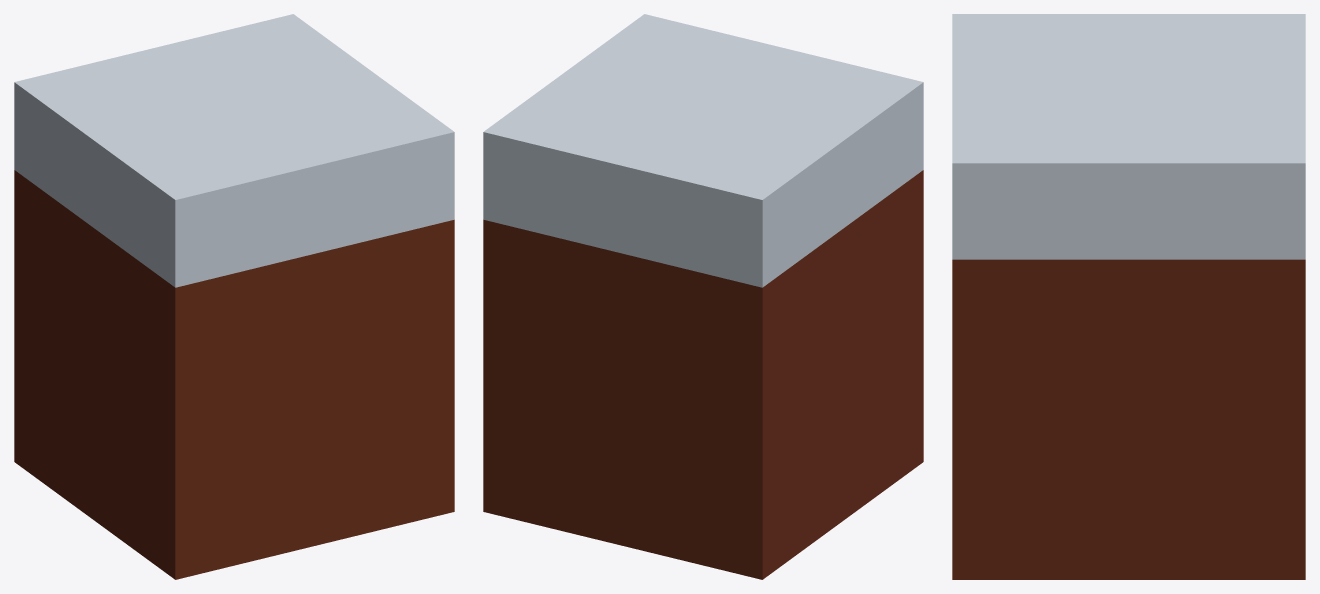
The model's file is SnowBlockCentre.fbx.
3 views of the same model, side by side, from view 1: azimuth 30°, elevation 25°; view 2: azimuth 150°, elevation 25°; view 3: azimuth 270°, elevation 25° (orthographic). The views are drawn at different scales.
Parts seen in each view (by area): view 1: Centre; view 2: Centre; view 3: Centre.
Part boxes in pixels (box(x1,y1,x2,y2)): Centre: box(14, 14, 454, 579); Centre: box(483, 14, 923, 579); Centre: box(952, 14, 1305, 579).
Size of the model in its own units: 100 by 130 by 100.
